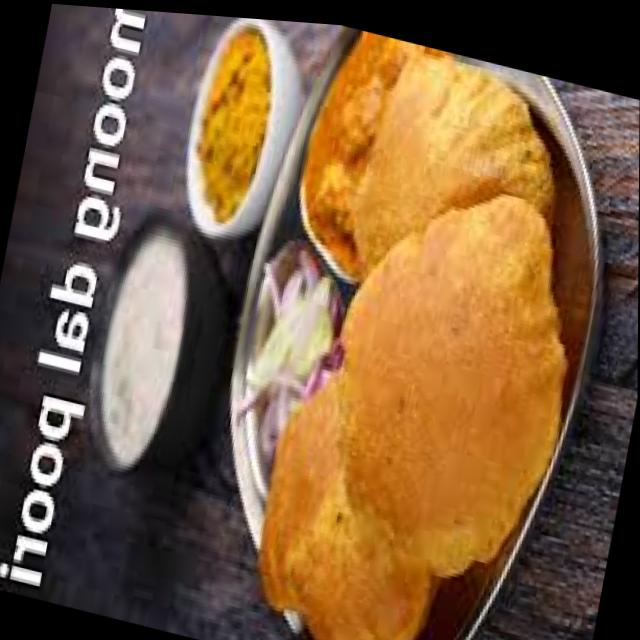CURD: (101, 232, 190, 456)
CURRY: (194, 27, 271, 218)
POORI: (255, 43, 566, 640)
